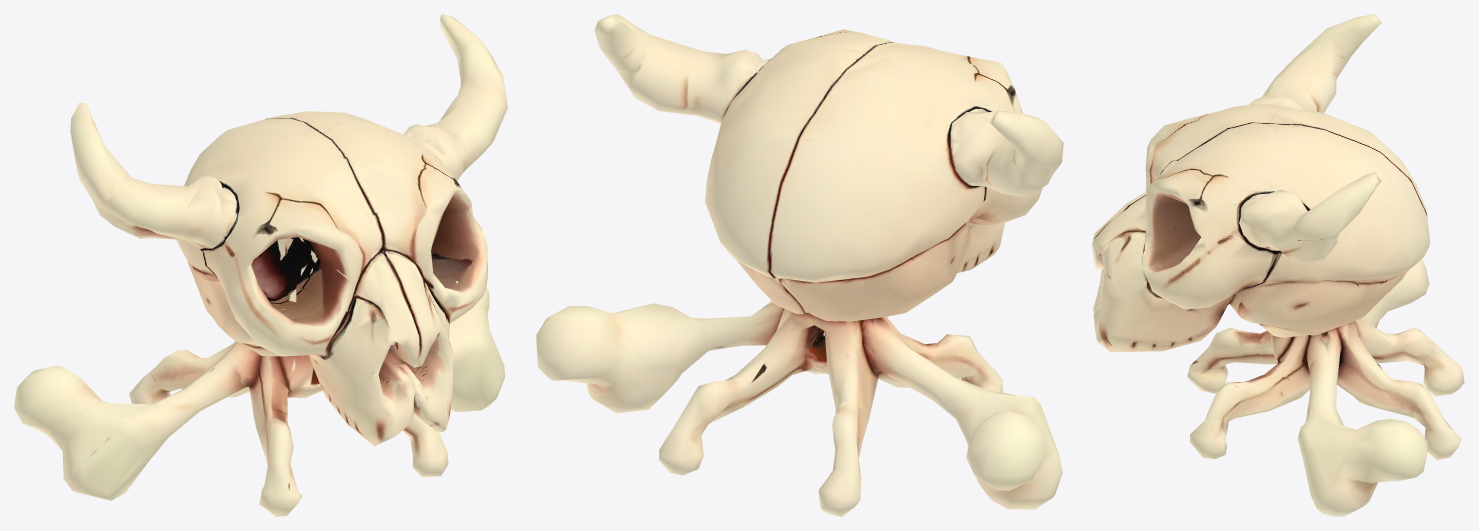
The model's file is bones_skull_scatter.glb.
3 renders of one model, left to right at view 1: azimuth 30°, elevation 25°; view 2: azimuth 150°, elevation 25°; view 3: azimuth 270°, elevation 25°, orthographic. The views are drawn at different scales.
Size of the model in its own units: 1.89 by 1.45 by 1.47.
1 material, 1 textured.
